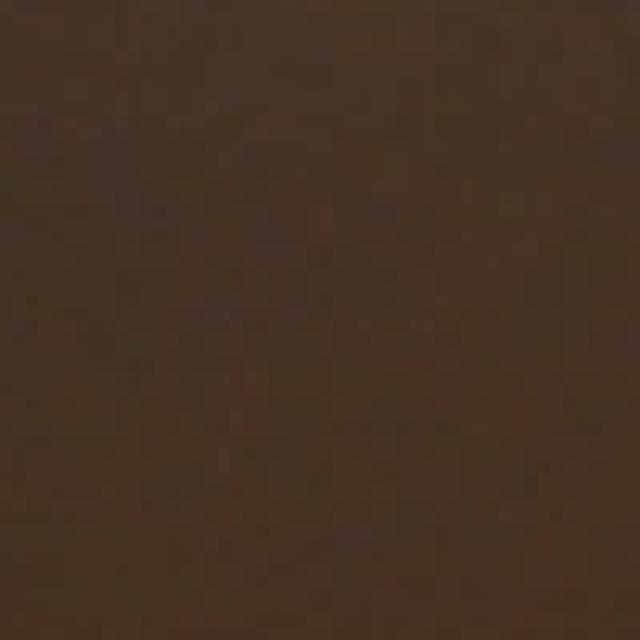no_fire: (42, 29, 631, 588)
